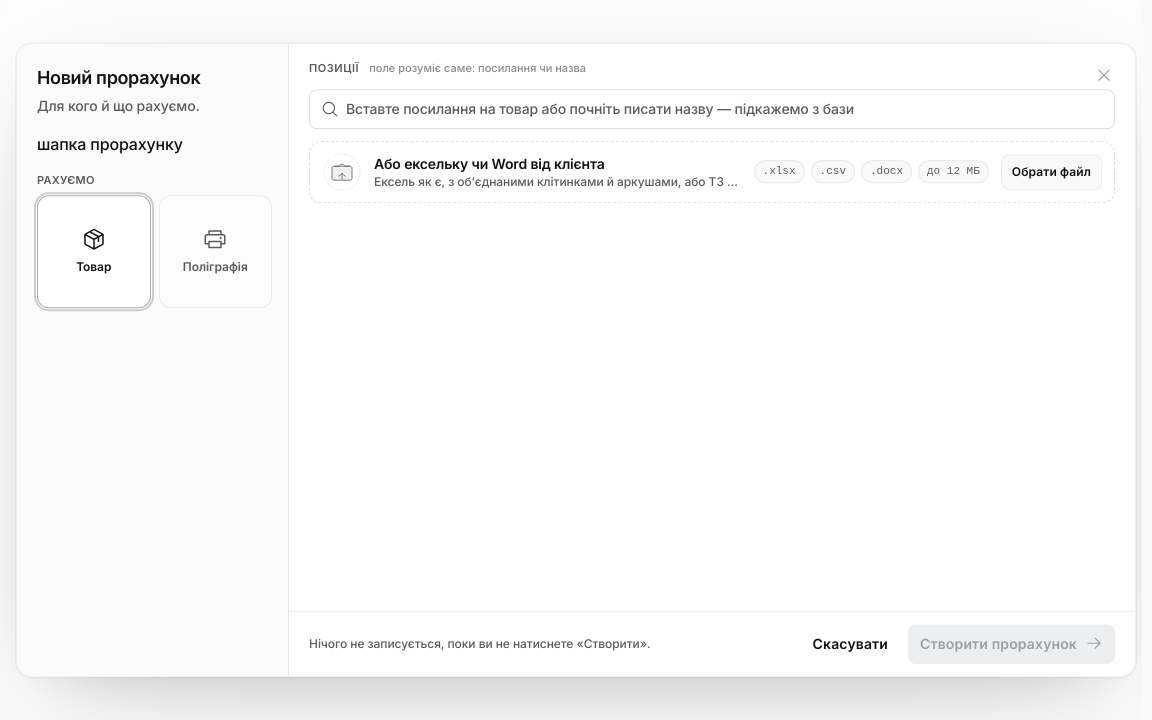
Test: QuoteWizardDialog — один екран › другий тираж не додається, поки перший порожній
Type "Кепка six-panel" into the dropdown named "Товар: посилання або назва" at (712, 109), box left=309, top=89, right=1115, bottom=129
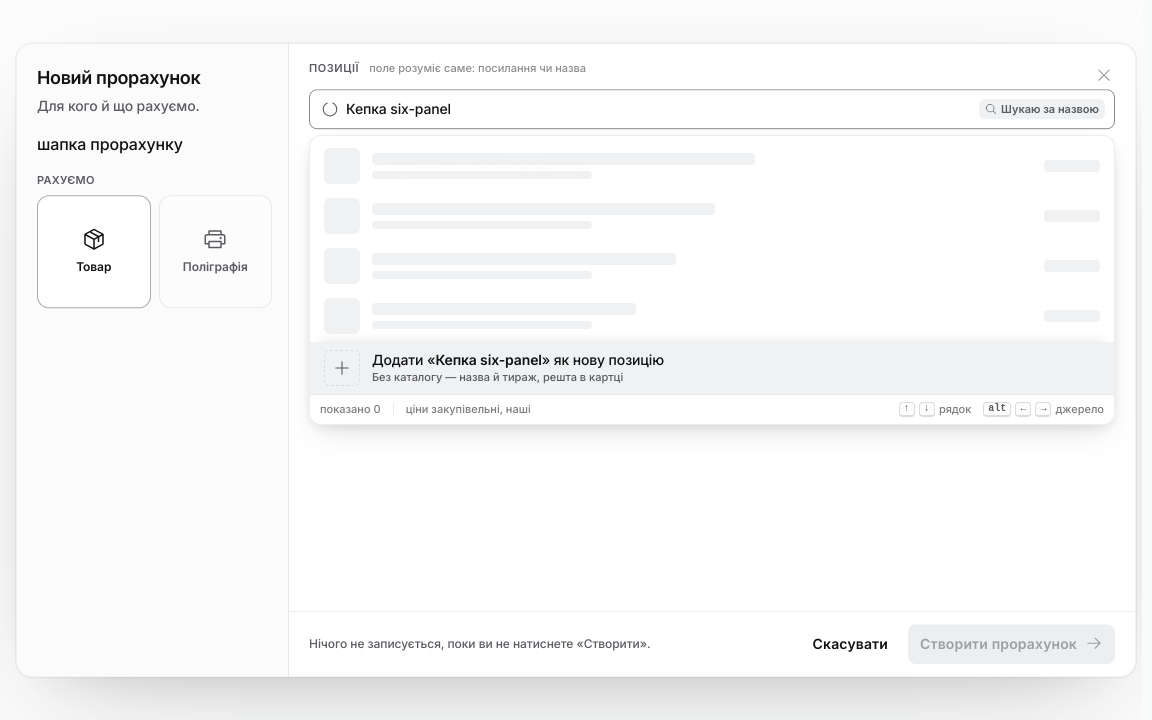
Click the option "як нову позицію" at (342, 368), box left=310, top=342, right=1114, bottom=394
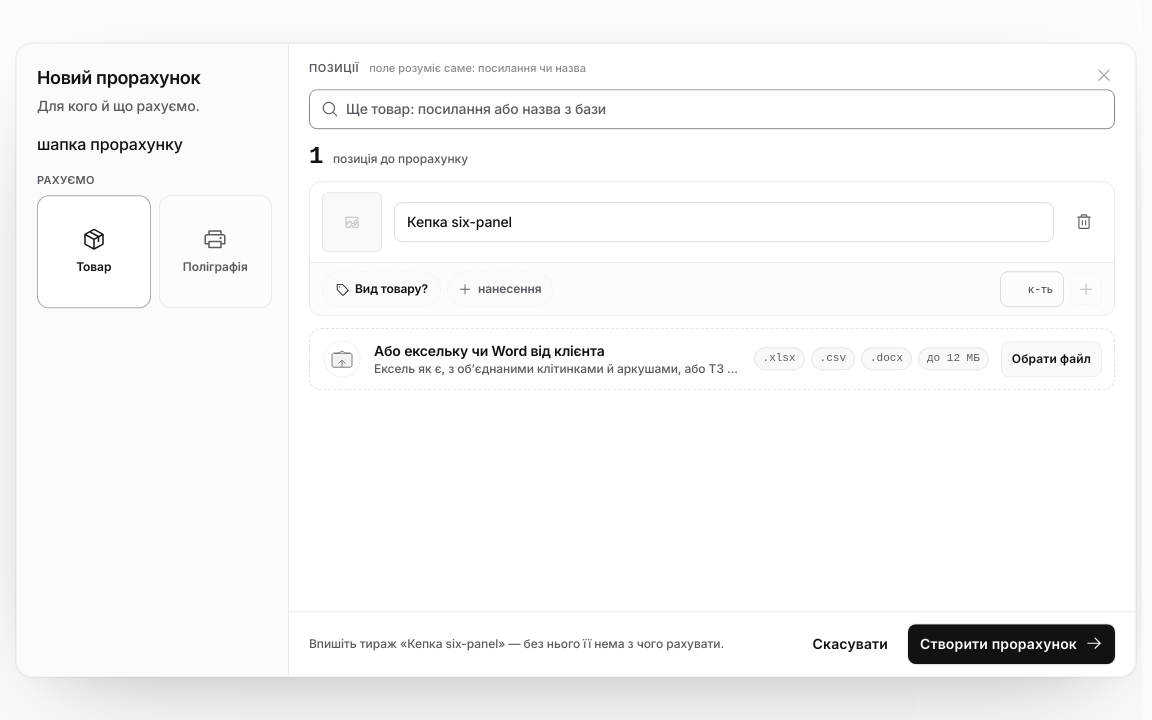
Expected: the button named "Додати ще тираж" is disabled, left=1070, top=273, right=1102, bottom=305
Expected: the number of fields named "Кількість тиражу" is 1
Type "100" into the field named "Кількість тиражу" at (1032, 289), box left=1000, top=271, right=1064, bottom=307
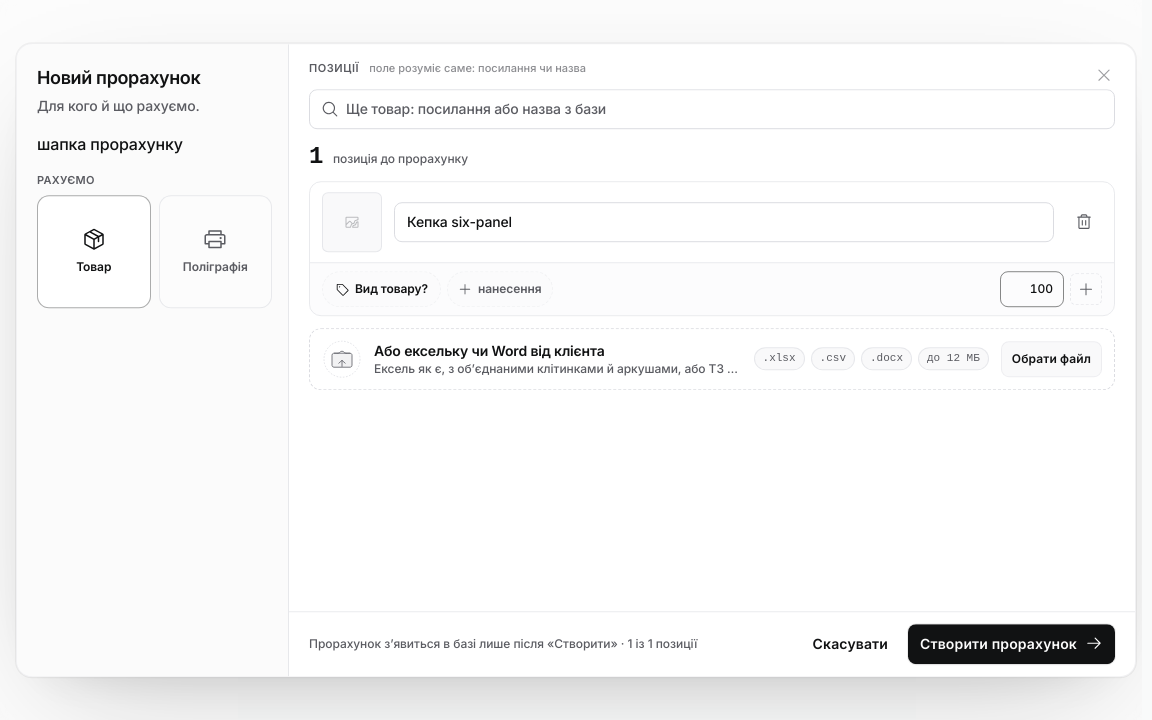
Expected: the button named "Додати ще тираж" is enabled
Click the button named "Додати ще тираж" at (1086, 289), box left=1070, top=273, right=1102, bottom=305
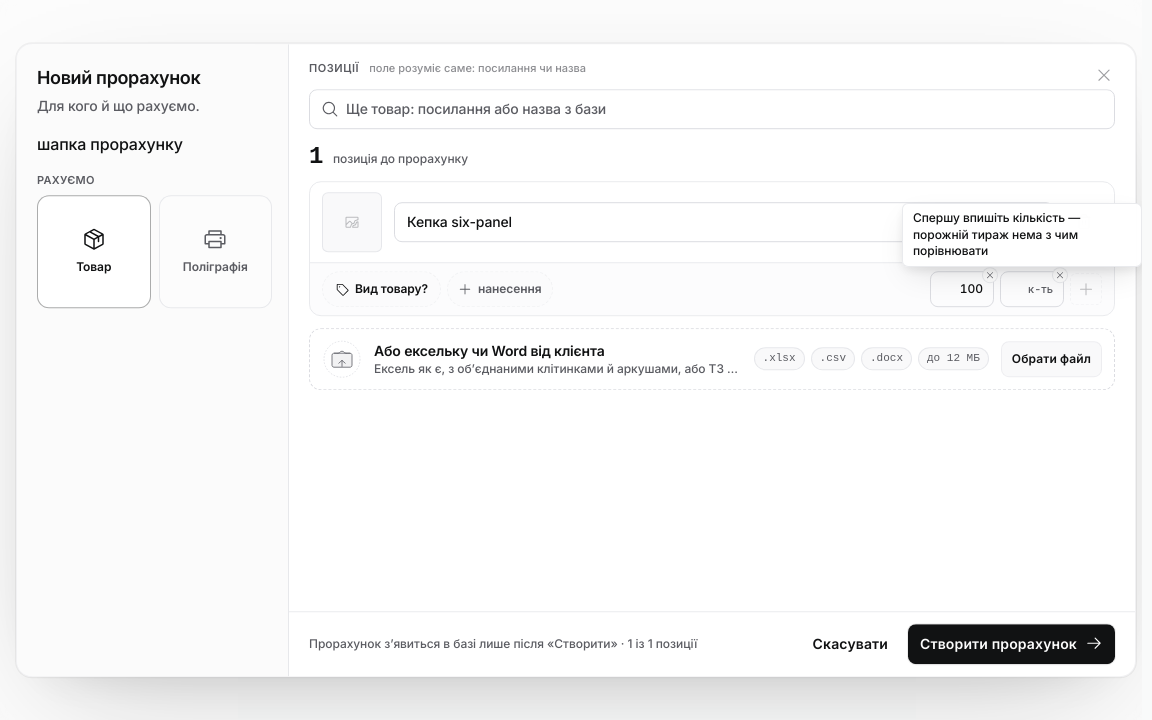
Expected: the number of fields named "Кількість тиражу" is 2, left=930, top=271, right=994, bottom=307; left=1000, top=271, right=1064, bottom=307
Expected: the button named "Додати ще тираж" is disabled, left=1070, top=273, right=1102, bottom=305
